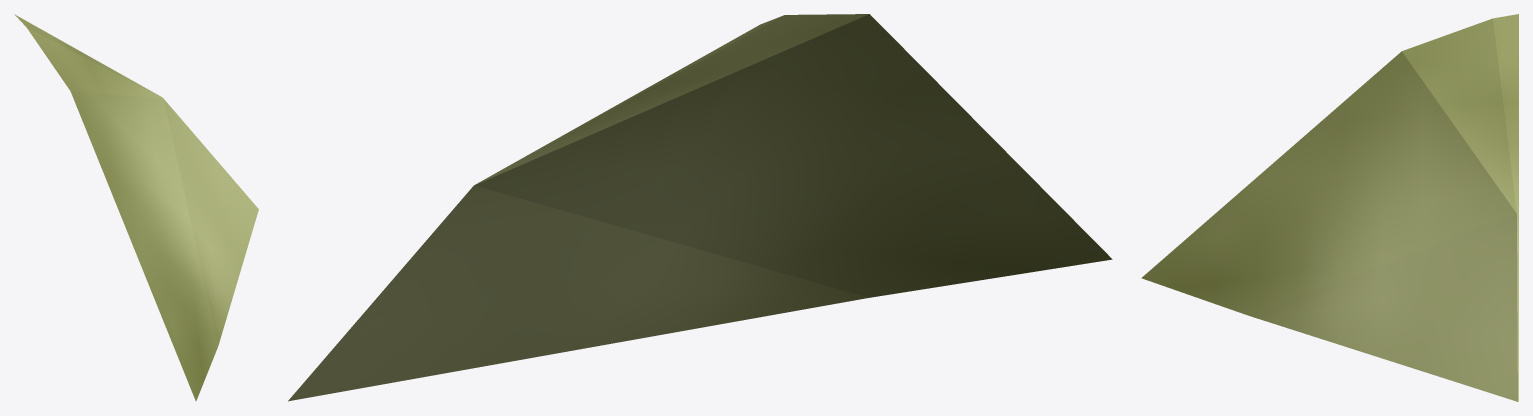
3 views of the same model, side by side, from view 1: azimuth 30°, elevation 25°; view 2: azimuth 150°, elevation 25°; view 3: azimuth 270°, elevation 25° (orthographic). The views are drawn at different scales.
Bounding box in the file's own units: 0.1394 × 0.1387 × 0.1797.
1 material, 1 textured.
